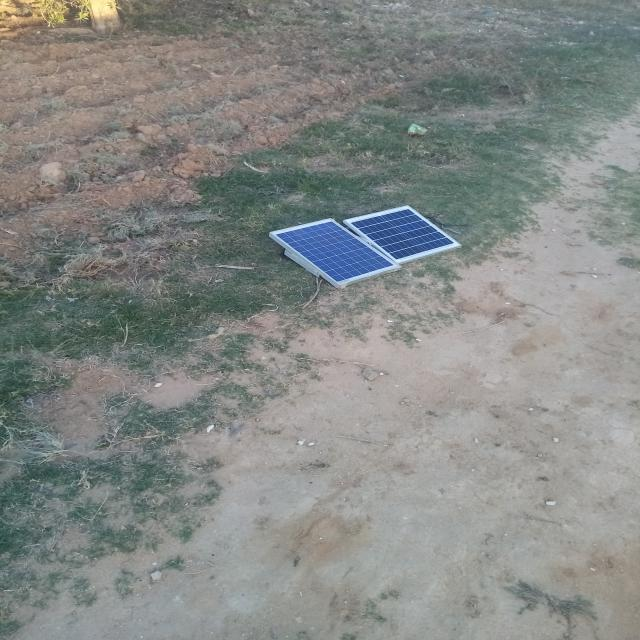no faulty: (271, 218, 399, 284), (345, 206, 461, 263)
